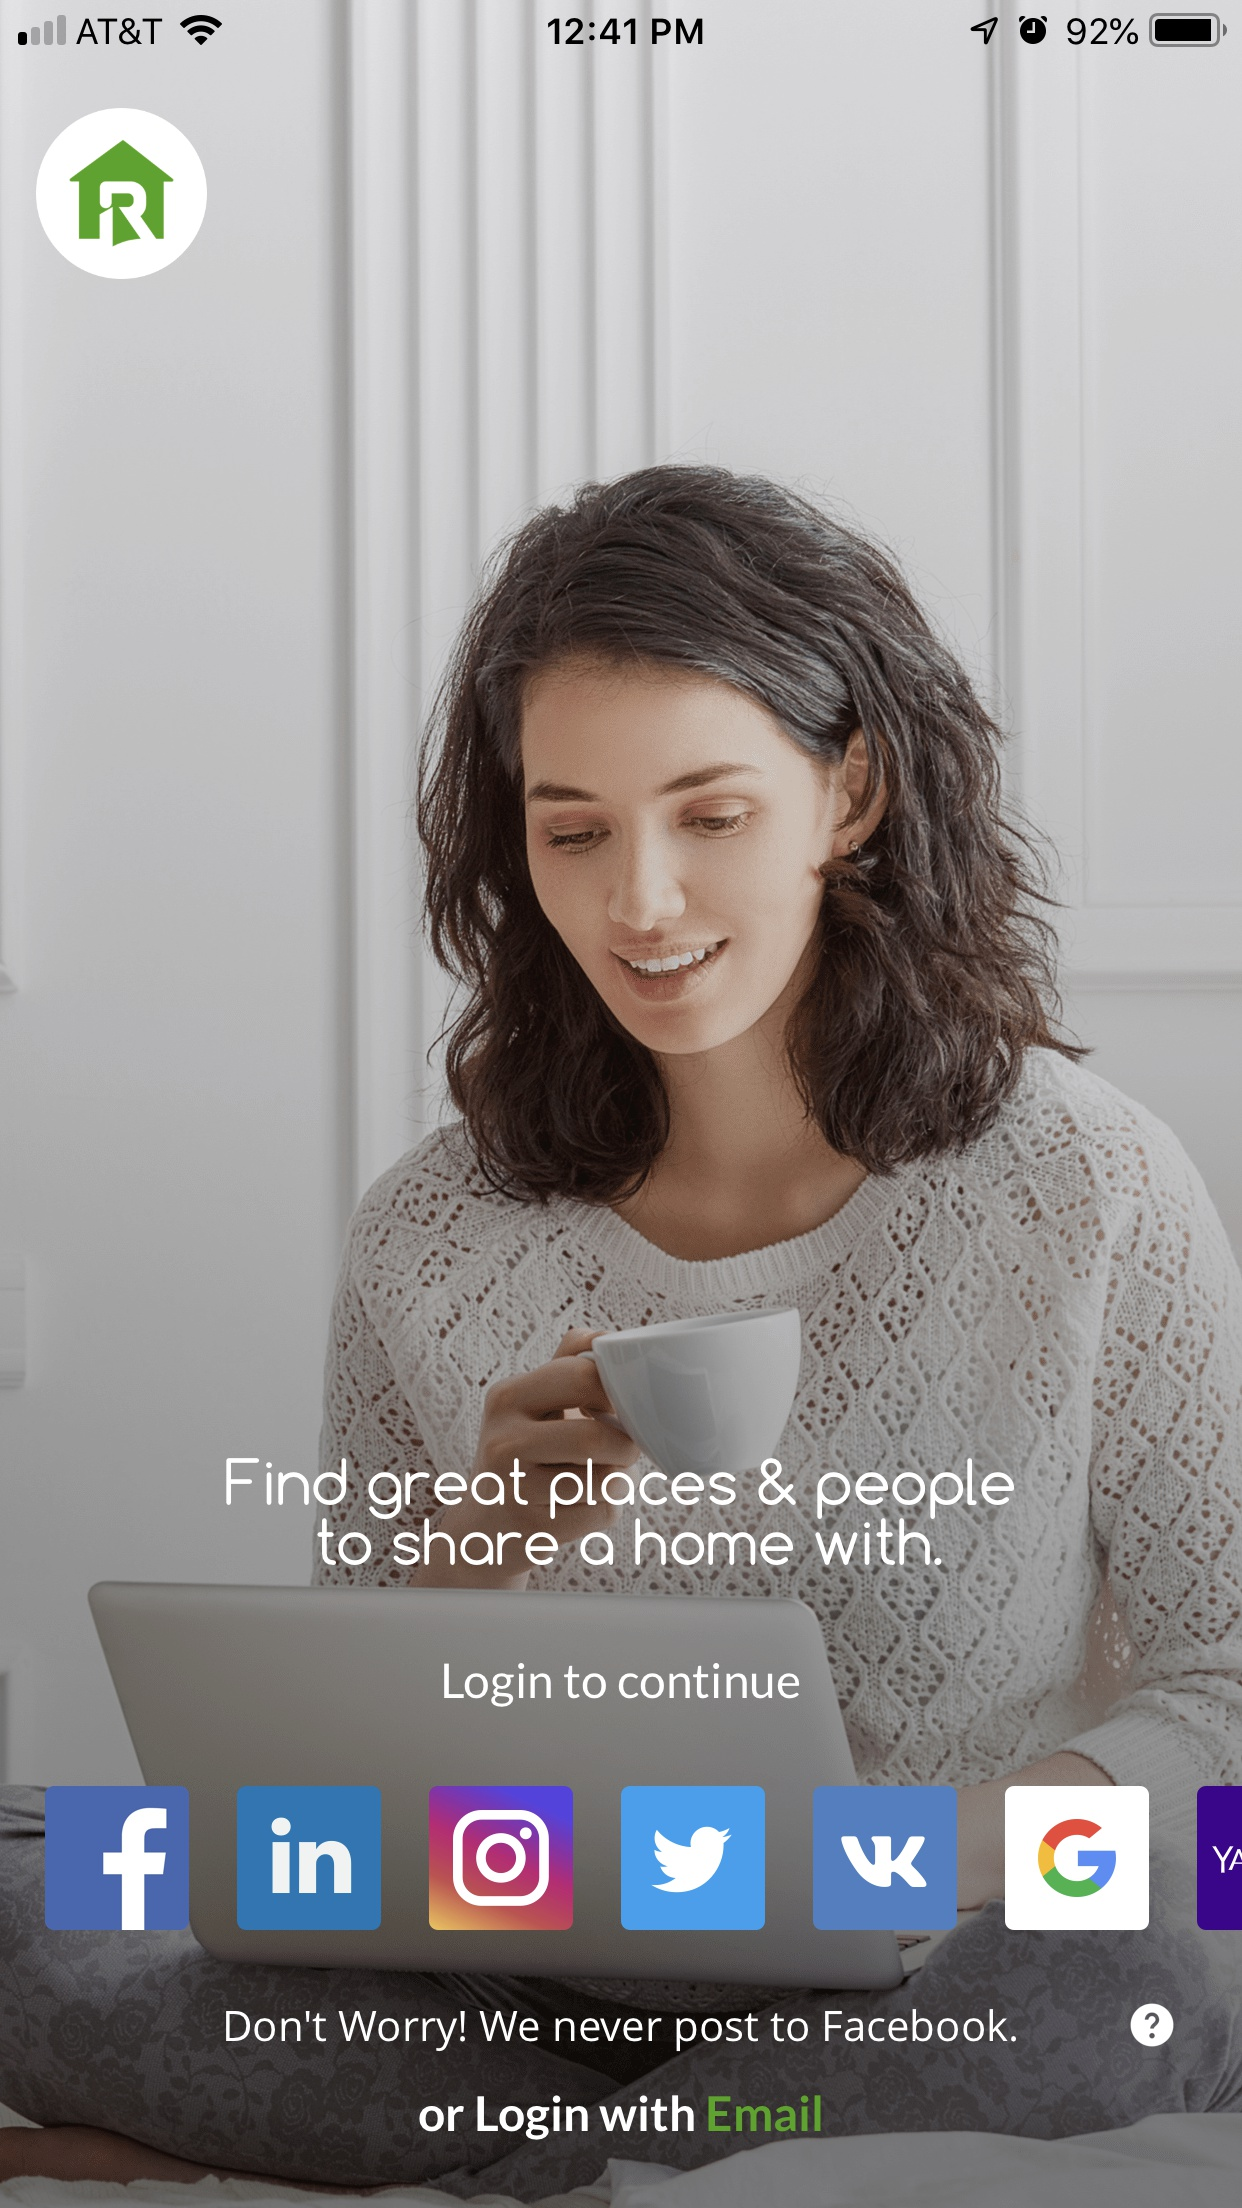BackgroundImage: (2, 2, 1242, 2208)
Icon: (36, 108, 209, 281), (620, 1785, 766, 1930), (45, 1786, 191, 1930), (1005, 1786, 1149, 1930), (1128, 2002, 1174, 2047)
Image: (237, 1785, 382, 1930), (429, 1786, 575, 1930), (811, 1786, 957, 1930), (1197, 1786, 1242, 1930)
Text: (224, 1457, 1015, 1567), (227, 2008, 1018, 2052), (419, 2094, 822, 2141), (444, 1662, 801, 1708)
UpperTaskBar: (2, 2, 1242, 49)
